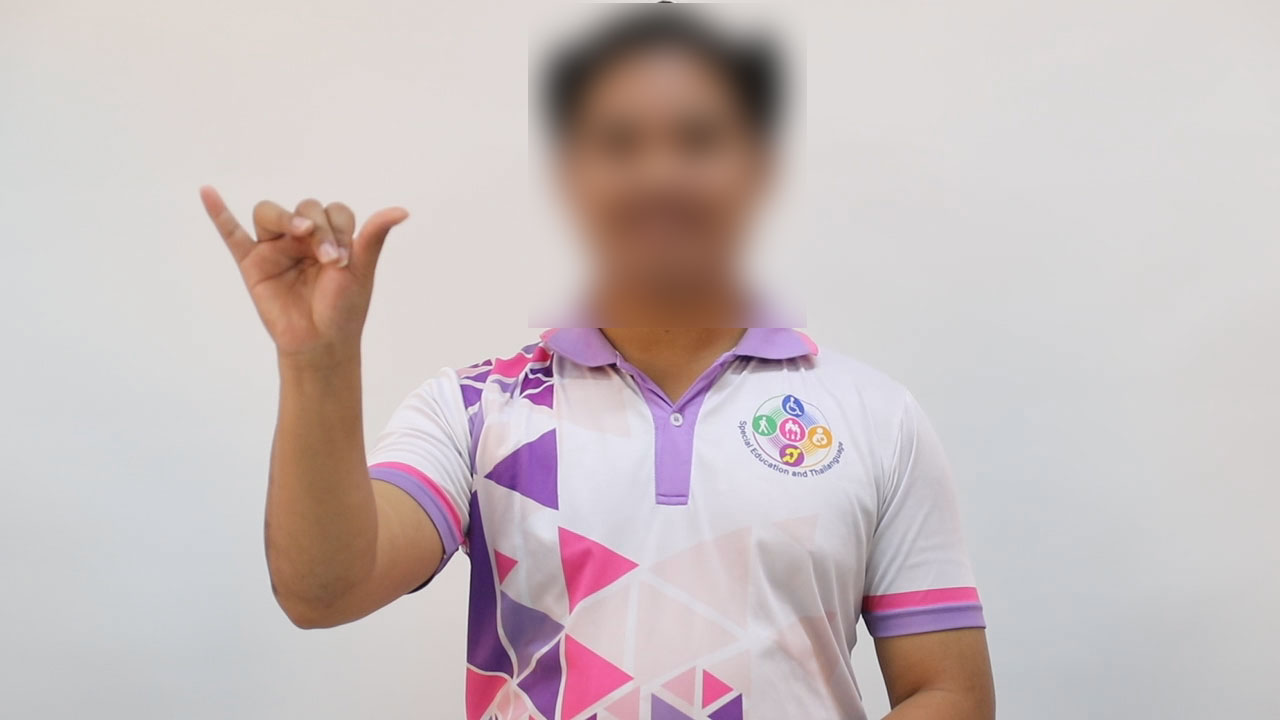yor: (172, 172, 438, 377)
